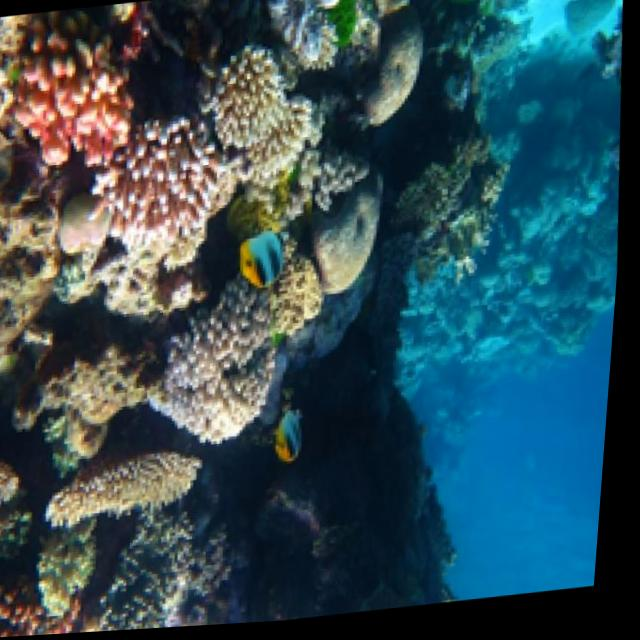Dead Coral: (373, 111, 525, 320)
